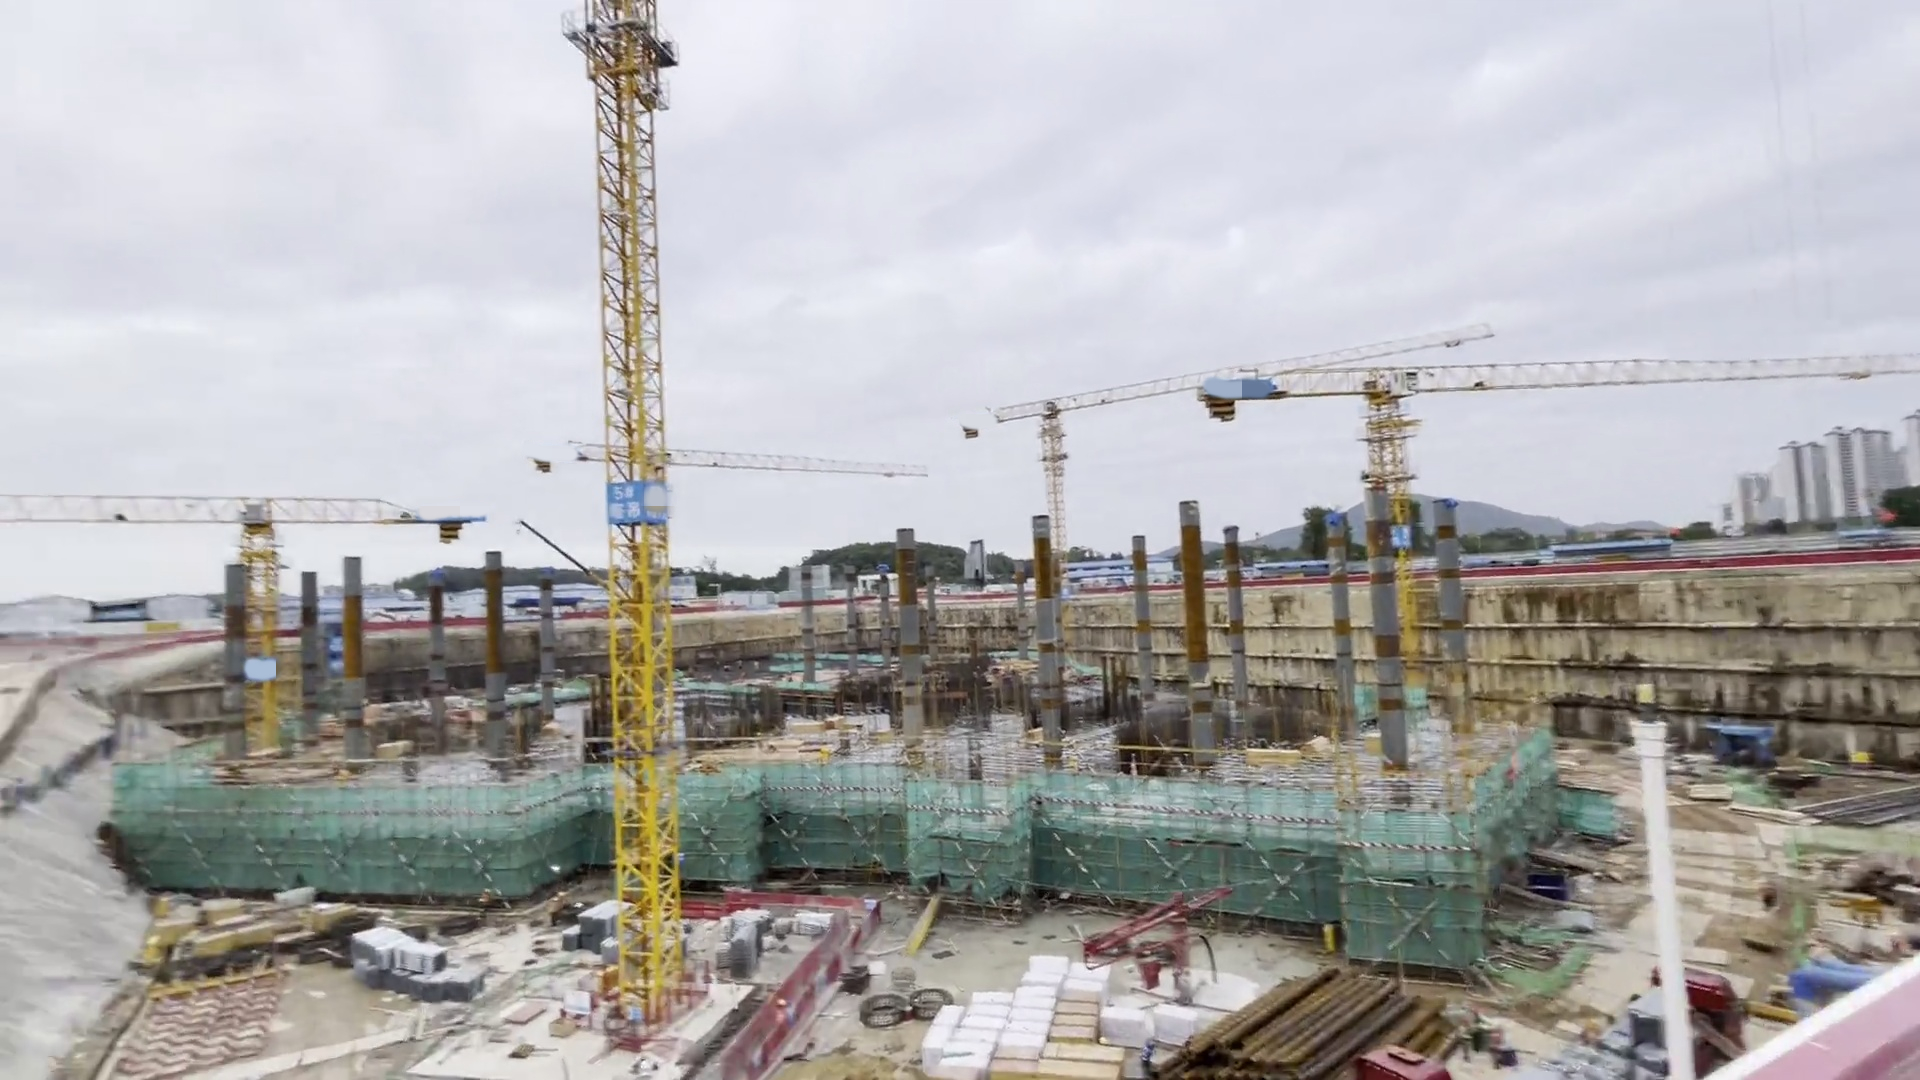board: (1052, 990, 1100, 1040)
